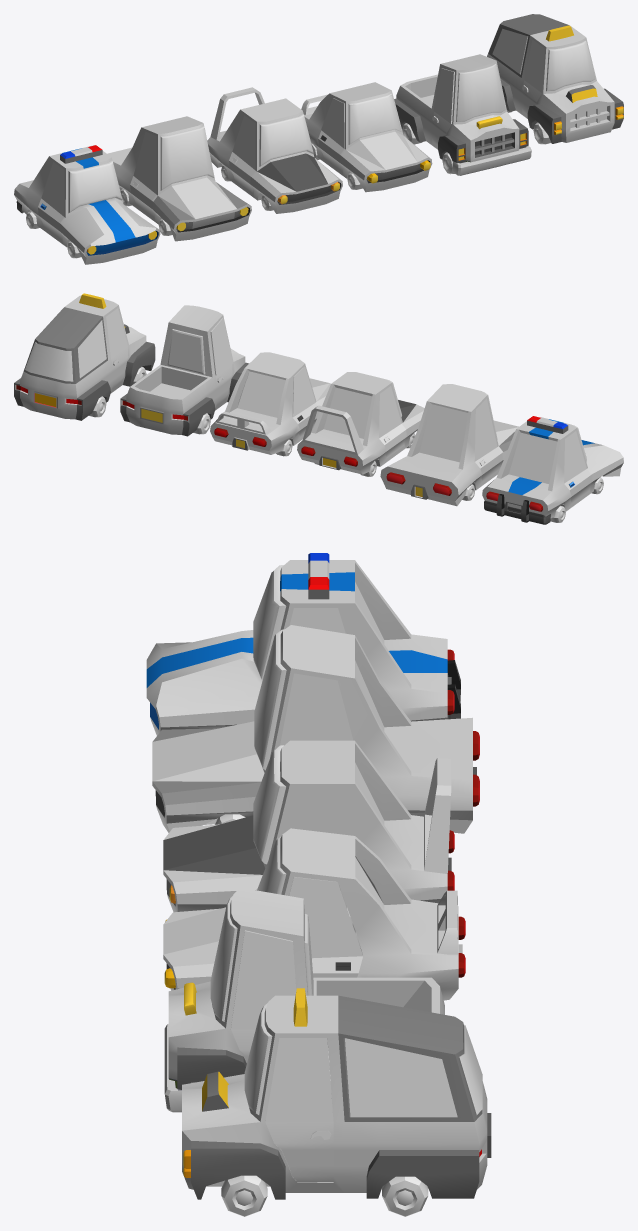
Rendered from CARS.fbx.
The picture shows the model from 3 angles, top to bottom: view 1: azimuth 30°, elevation 25°; view 2: azimuth 150°, elevation 25°; view 3: azimuth 270°, elevation 25°; orthographic projection. The views are drawn at different scales.
Visible parts, largest first — view 1: MuscleCar2, MuscleCar1, Vintage, SportCar2, Police car, SportCar1; view 2: MuscleCar2, MuscleCar1, Vintage, Police car, SportCar2, SportCar1; view 3: MuscleCar2, Vintage, SportCar2, Police car, SportCar1, MuscleCar1, Car02_2_WhFL.001, Car02_2_WhBL.001.
Boxes of the visible parts, bbox=[...] form: MuscleCar2: bbox=[487, 14, 623, 143]; MuscleCar1: bbox=[394, 54, 531, 175]; Vintage: bbox=[107, 116, 251, 241]; SportCar2: bbox=[207, 87, 342, 213]; Police car: bbox=[14, 145, 160, 264]; SportCar1: bbox=[301, 82, 432, 192]; MuscleCar2: bbox=[14, 293, 155, 420]; MuscleCar1: bbox=[120, 305, 248, 436]; Vintage: bbox=[380, 384, 518, 506]; Police car: bbox=[482, 416, 623, 524]; SportCar2: bbox=[297, 372, 424, 474]; SportCar1: bbox=[210, 352, 330, 454]; MuscleCar2: bbox=[182, 988, 491, 1199]; Vintage: bbox=[152, 625, 479, 833]; SportCar2: bbox=[163, 740, 454, 912]; Police car: bbox=[146, 553, 460, 735]; SportCar1: bbox=[163, 828, 465, 1000]; MuscleCar1: bbox=[164, 887, 444, 1112]; Car02_2_WhFL.001: bbox=[221, 1175, 267, 1216]; Car02_2_WhBL.001: bbox=[382, 1176, 428, 1216].
Bounding box in the file's own units: 21.91 × 3.7 × 6.16.
